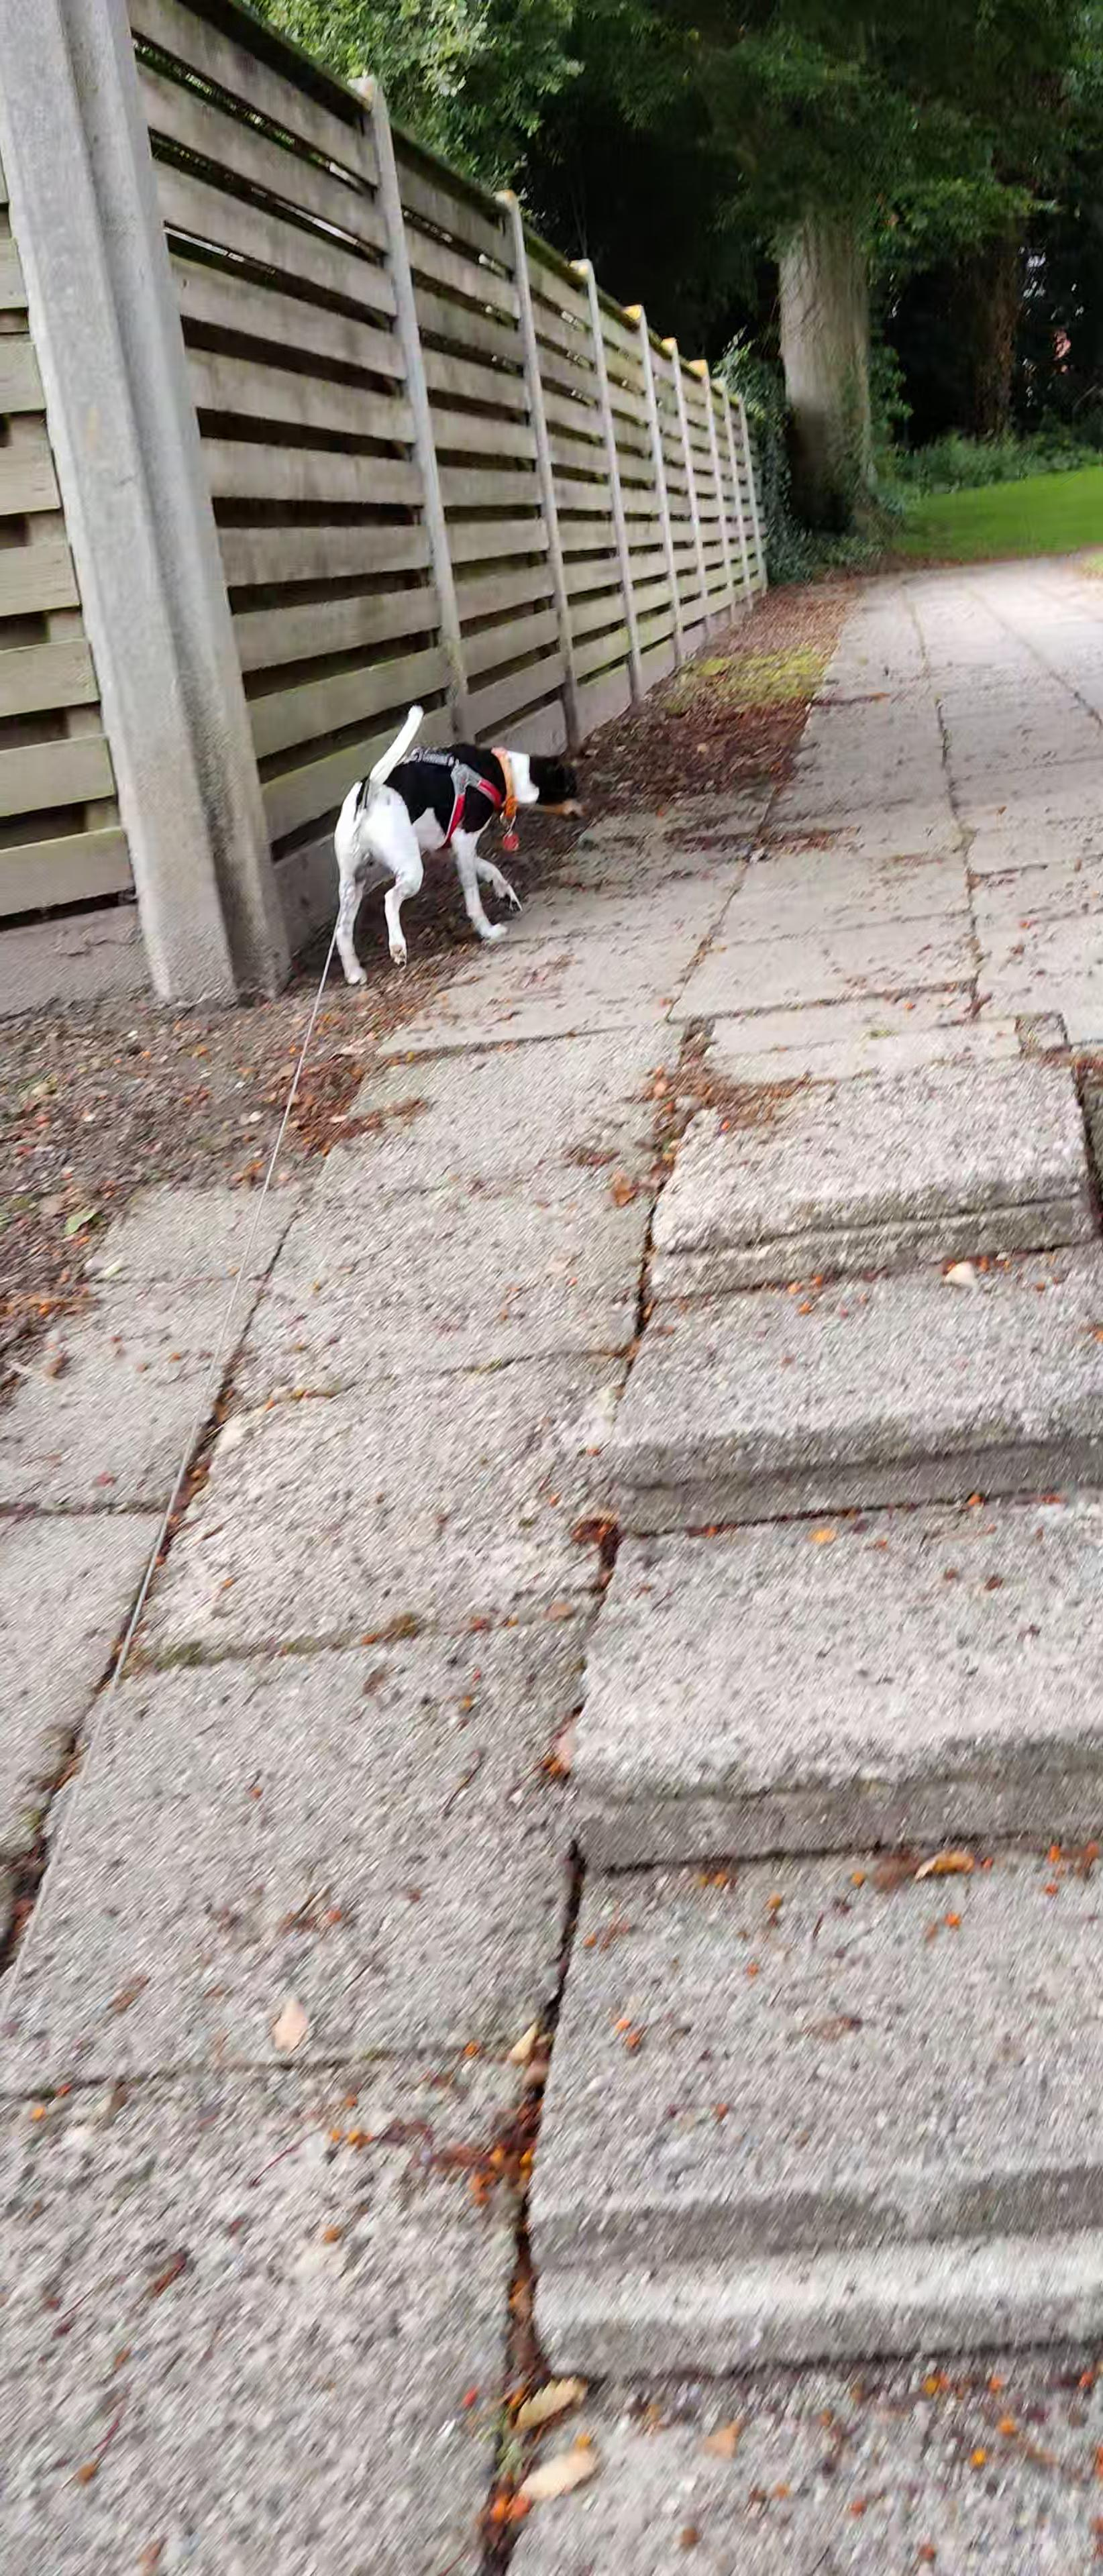Dog: (312, 698, 598, 996)
